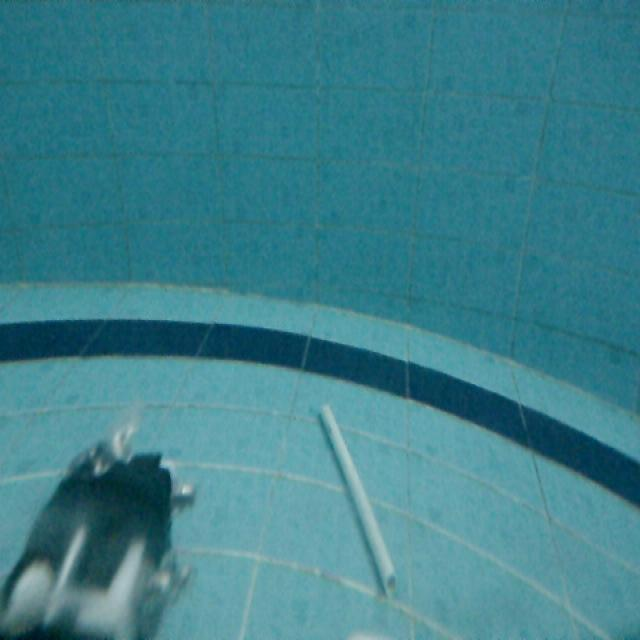Cube: (314, 396, 400, 598)
